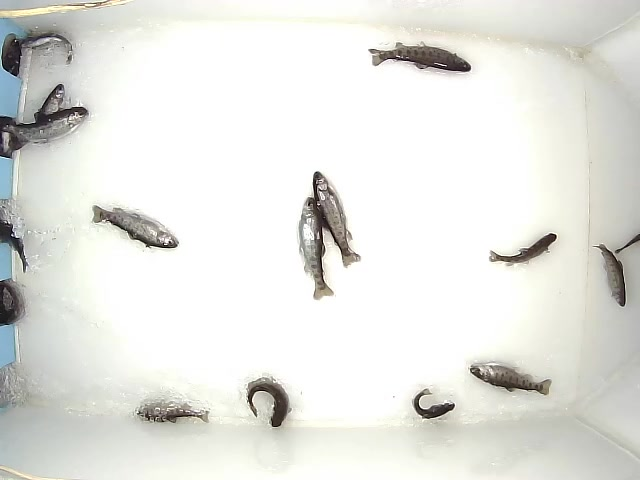fish: (313, 171, 361, 268), (92, 205, 179, 248), (9, 84, 65, 150), (299, 197, 334, 301), (368, 41, 471, 72), (2, 107, 89, 143), (470, 362, 552, 396), (247, 377, 292, 427), (489, 233, 557, 266), (592, 243, 626, 307), (19, 32, 74, 65), (135, 401, 210, 423), (413, 388, 455, 419)
